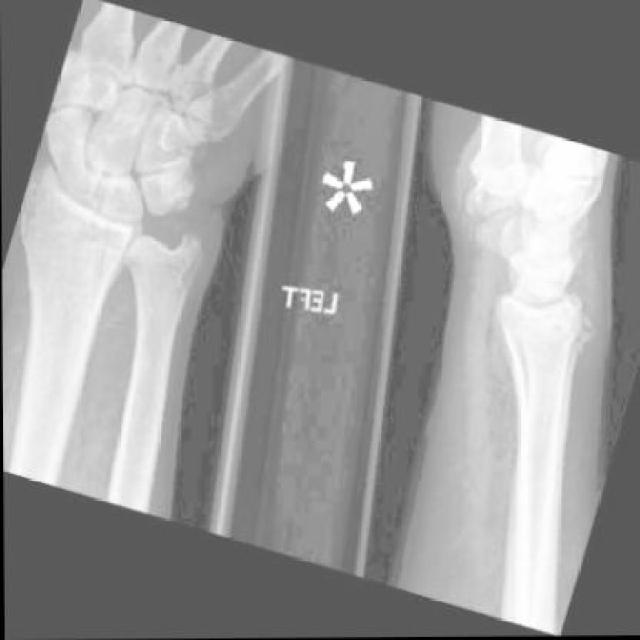Fracture: (12, 213, 136, 286), (489, 298, 588, 367), (574, 312, 605, 348), (169, 214, 199, 242)
